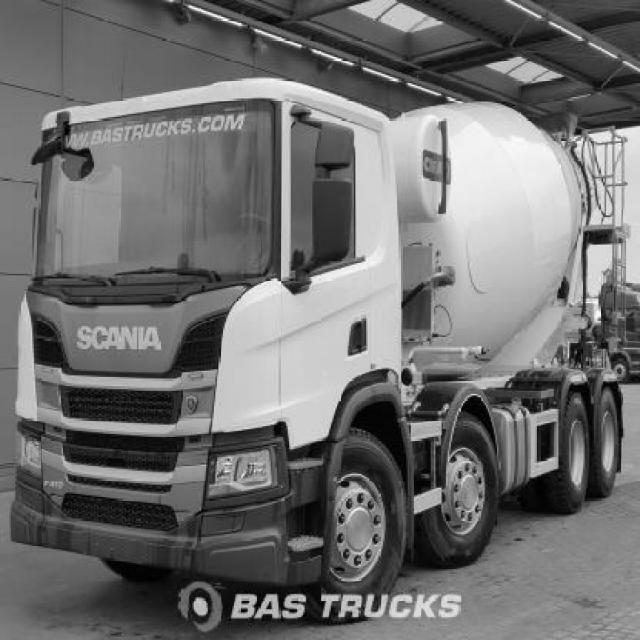Concrete Mixer: (9, 78, 629, 619)
